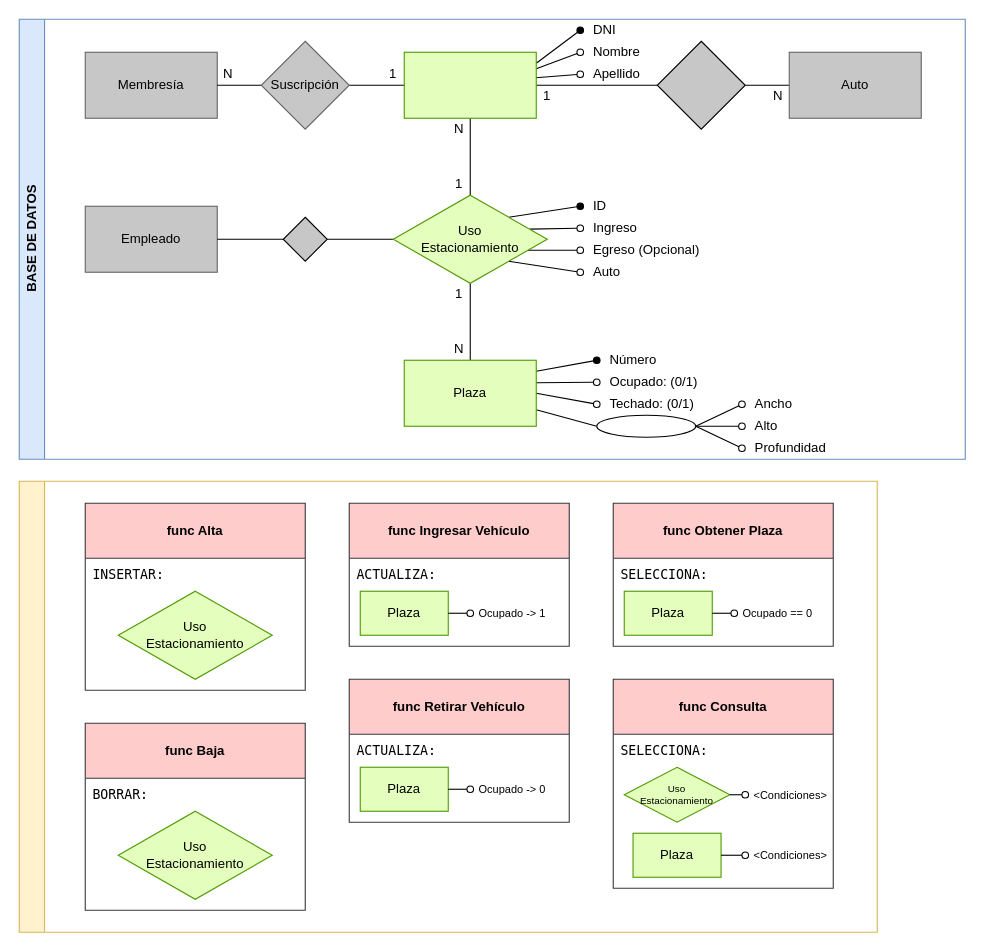
This 985x952 diagram has some shape labels left out. Here are the shapes that lost their labels. From the top down, the centre of each, then its label:
At pixel 469 84: "Usuario".
At pixel 700 84: "Pertenece".
At pixel 646 425: "Dimensiones".
At pixel 447 706: "CÓDIGO PYTHON".
